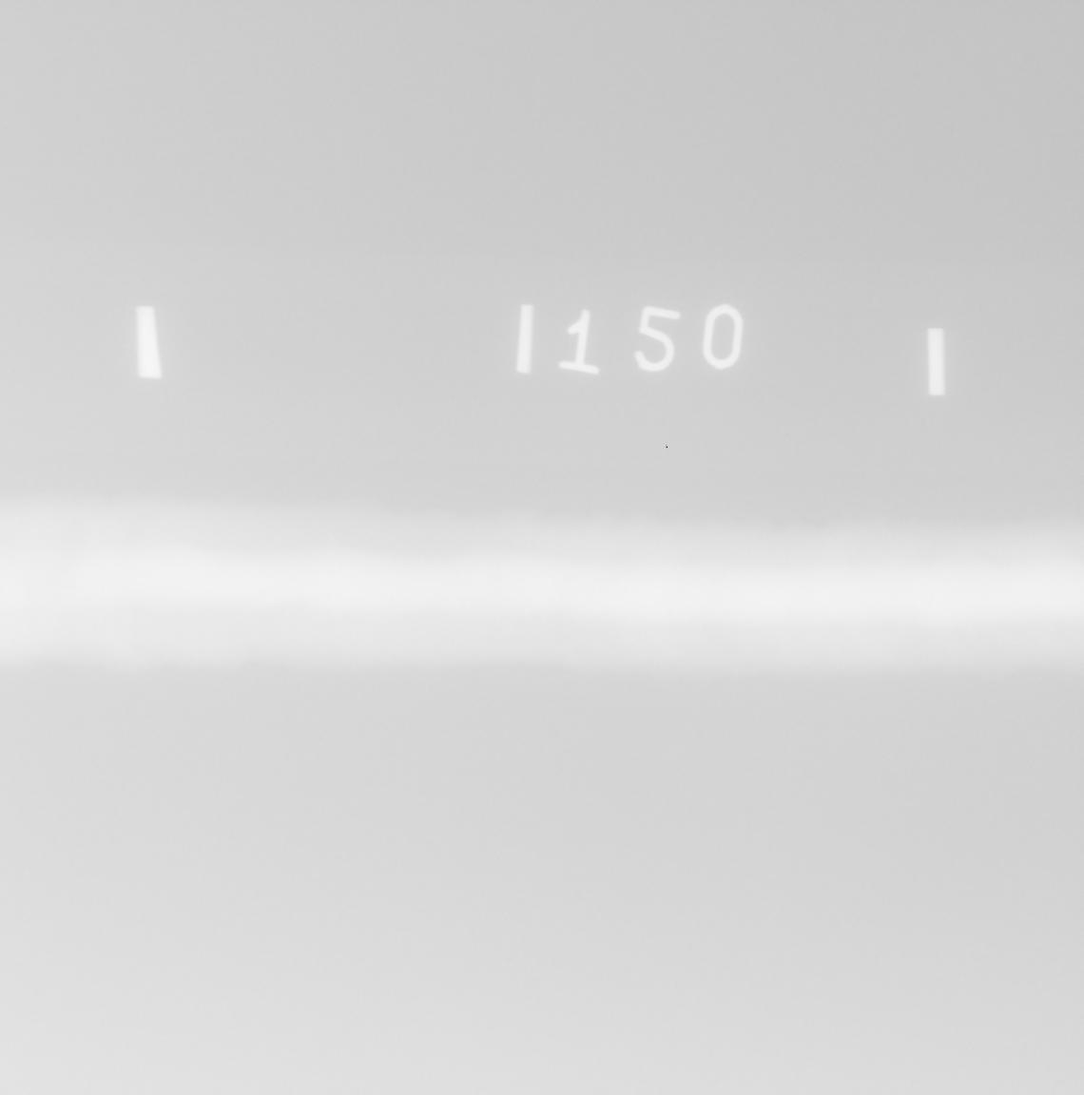Pore/Porosity: (73, 520, 76, 523)
